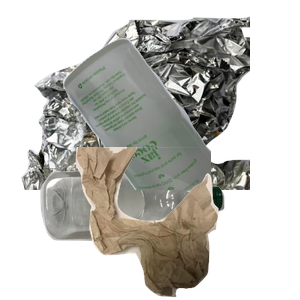glass: (60, 36, 300, 216)
metal: (19, 14, 259, 194)
plastic: (38, 165, 255, 300)
trash: (73, 147, 300, 300)
